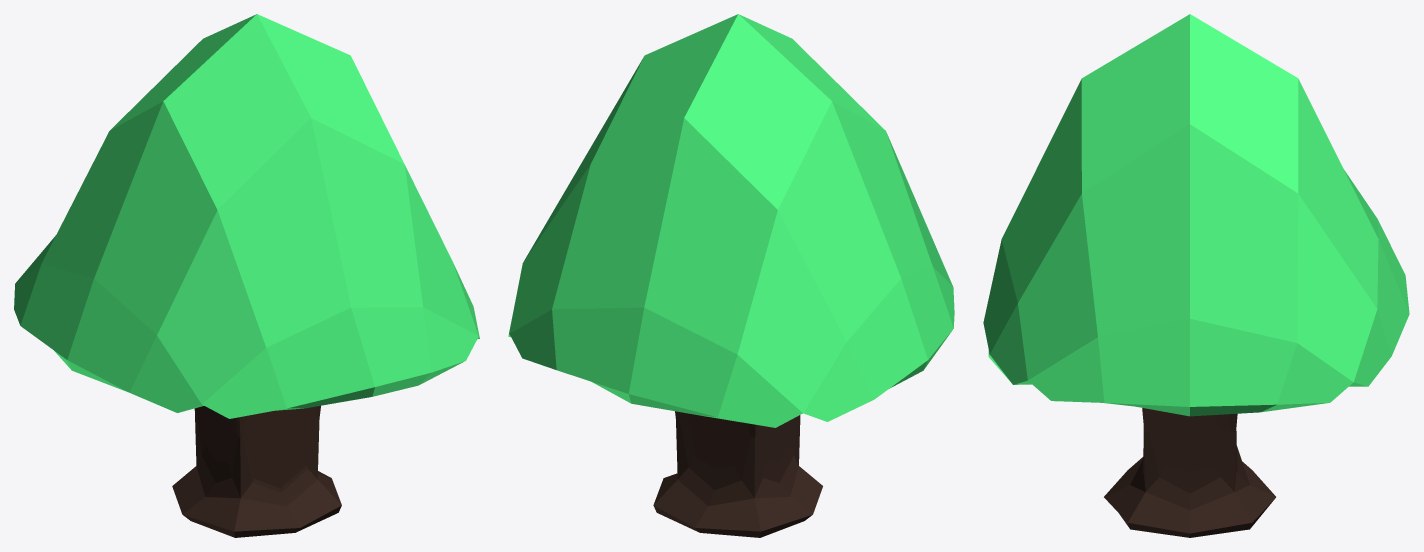
The model's file is basicThree4.glb.
The picture shows the model from 3 angles, left to right: view 1: azimuth 30°, elevation 25°; view 2: azimuth 150°, elevation 25°; view 3: azimuth 270°, elevation 25°; orthographic projection.
Parts seen in each view (by area): view 1: Cube; view 2: Cube; view 3: Cube.
Boxes of the visible parts, x1,y1,x2,y2 form: Cube: (14, 14, 479, 537); Cube: (508, 14, 954, 537); Cube: (983, 14, 1409, 537).
Size of the model in its own units: 4.76 by 5.91 by 4.62.
